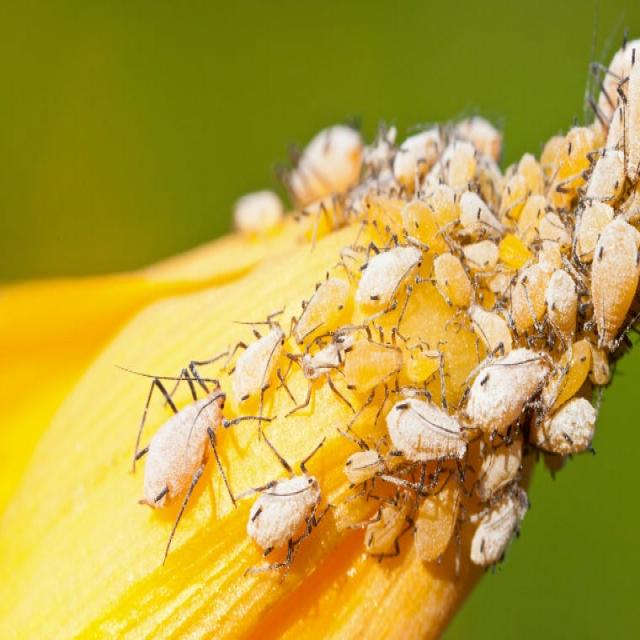Aphid-Grouped-: (115, 108, 636, 571)
Aphid-Grown-: (115, 355, 237, 522), (241, 425, 331, 565), (456, 338, 554, 447), (377, 380, 476, 482), (220, 298, 301, 417), (586, 206, 637, 364), (334, 321, 412, 419), (352, 230, 432, 324), (351, 472, 424, 570), (402, 469, 470, 568), (280, 267, 356, 343), (424, 229, 477, 321)
